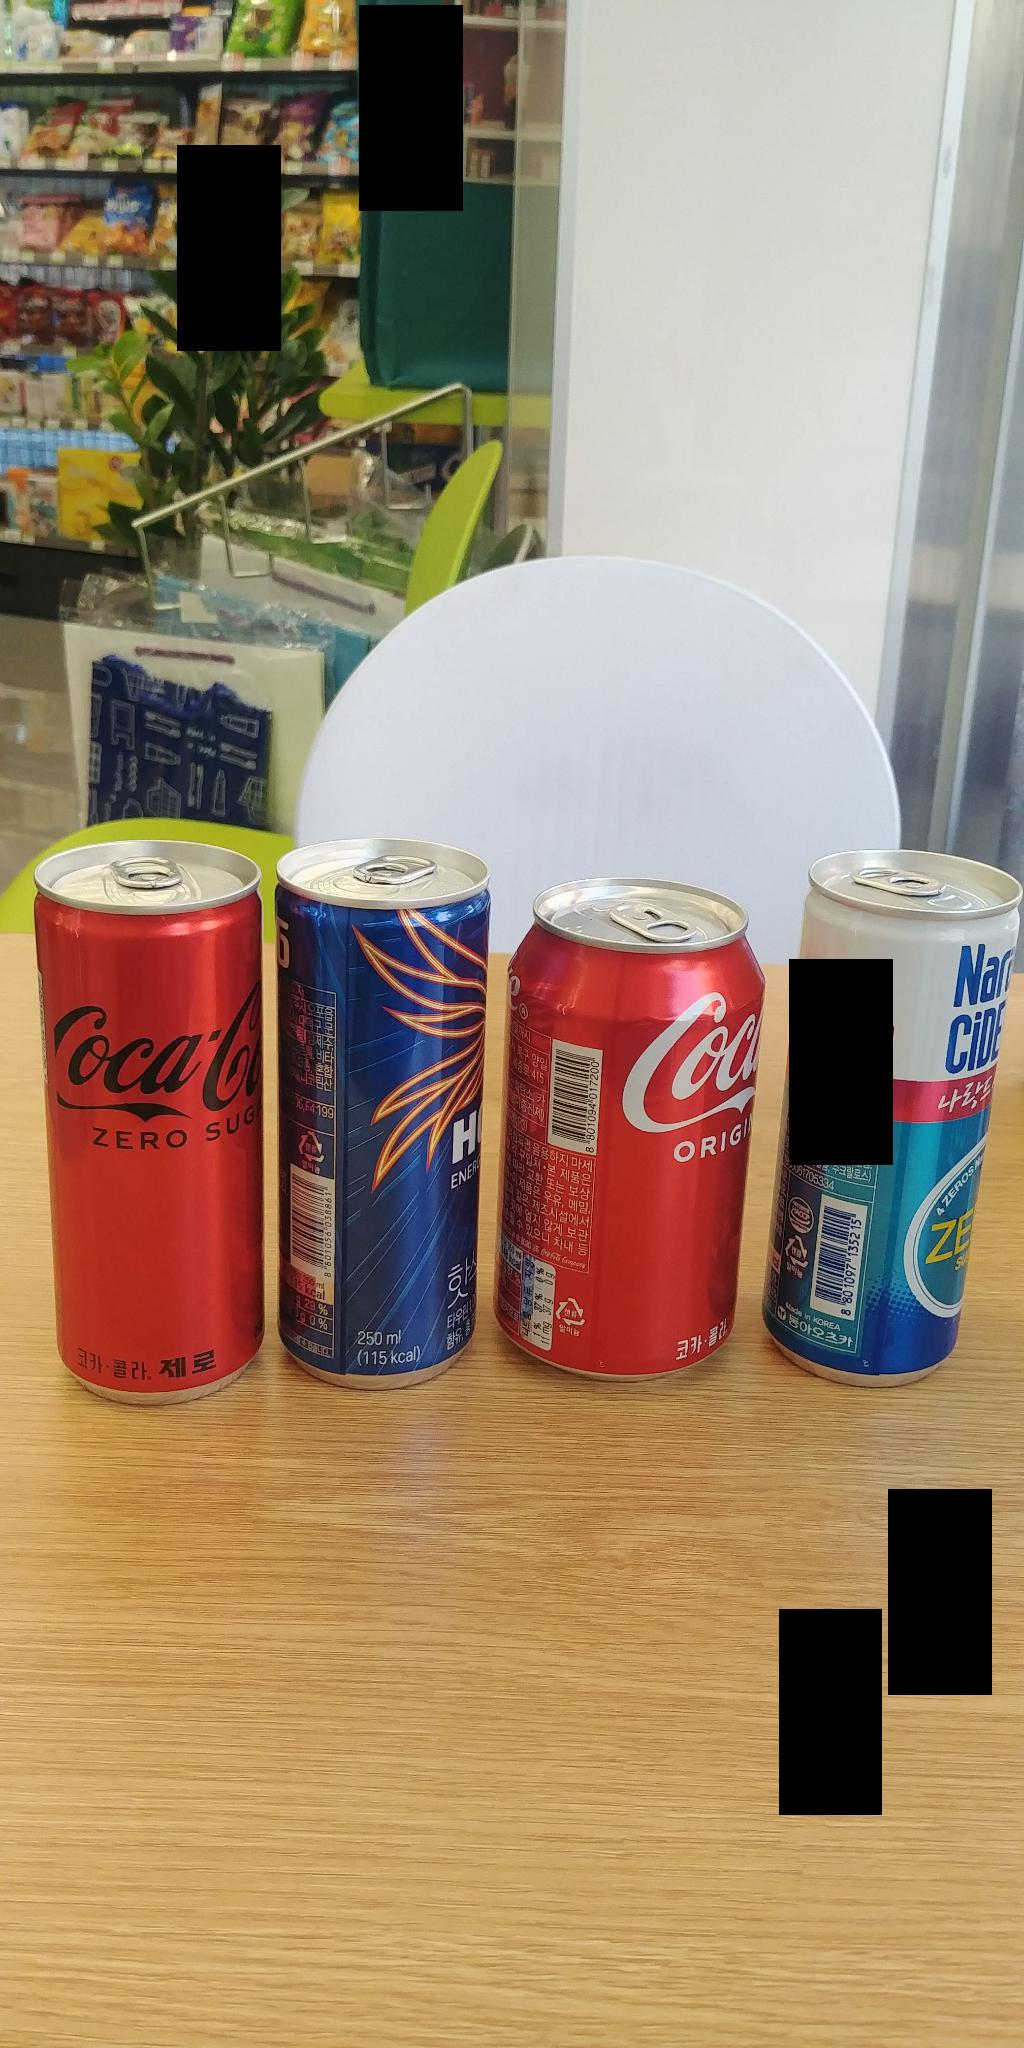cocacola: (474, 866, 761, 1365)
hotsix_org: (266, 832, 481, 1369)
narangdcider: (785, 846, 1024, 1370)
